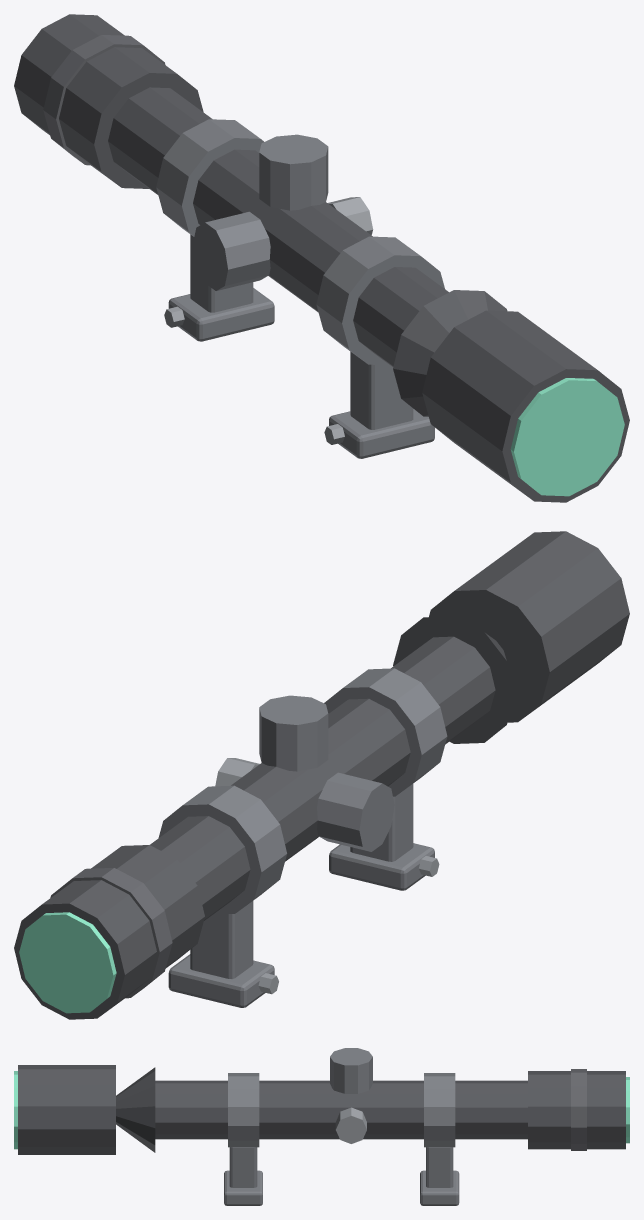
Rendered from att_sniper_scope.fbx.
The picture shows the model from 3 angles, top to bottom: view 1: azimuth 30°, elevation 25°; view 2: azimuth 150°, elevation 25°; view 3: azimuth 270°, elevation 25°; orthographic projection. The views are drawn at different scales.
Visible parts, largest first — view 1: att_sniper_scope; view 2: att_sniper_scope; view 3: att_sniper_scope.
Part boxes in pixels (bbox=[...]): att_sniper_scope: bbox=[14, 14, 629, 502]; att_sniper_scope: bbox=[14, 531, 629, 1019]; att_sniper_scope: bbox=[14, 1048, 629, 1205].
Bounding box in the file's own units: 0.054 × 0.078 × 0.314.
